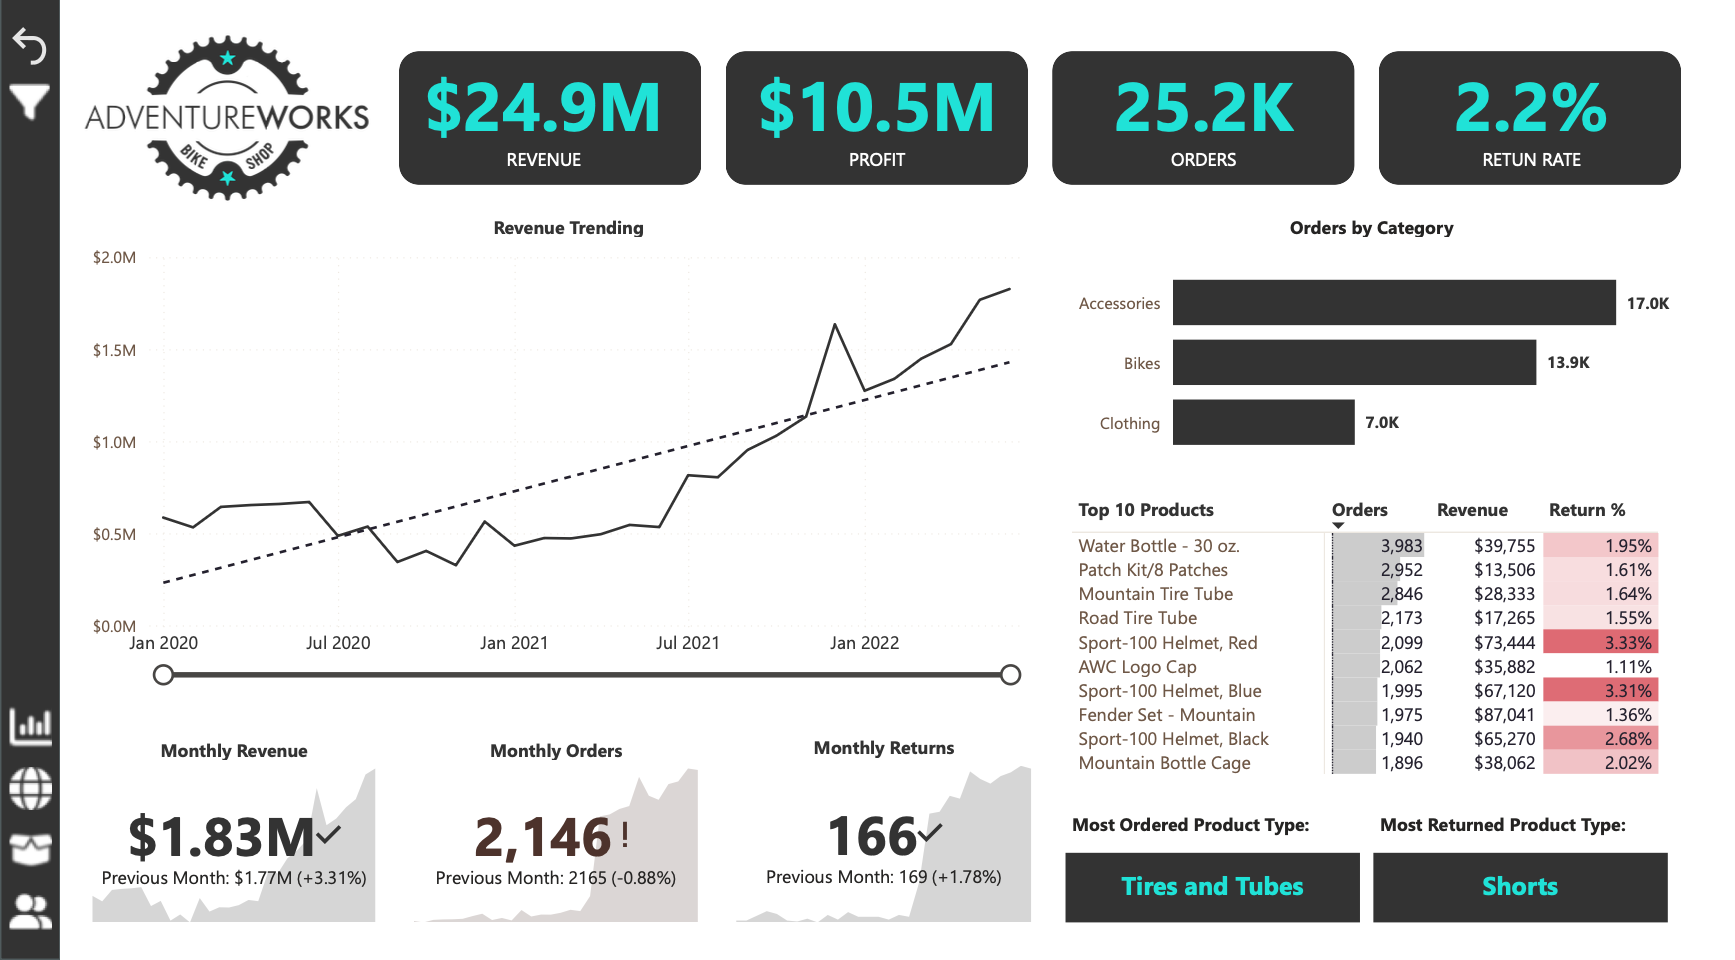

The dashboard page shown, as its layout file describes it:
{"tool":"powerbi","page":{"name":"Exec Dashboard","canvas":[1280,720],"ordinal":0},"visuals":[{"type":"image","title":"AW Logo","box":[35.3,17.6,270,146.5],"z":0},{"type":"shape","box":[297.8,41.1,225.6,100],"z":0,"group":"g2"},{"type":"shape","title":"Nav","box":[0,0,45,720],"z":1000},{"type":"shape","box":[541.9,41.1,225.6,100],"z":1000,"group":"g2"},{"type":"actionButton","box":[2.5,617.9,40,40],"z":1000,"group":"g4"},{"type":"group","id":"g1","title":"KPI's","box":[271.1,13.2,1008.9,150],"z":2000},{"type":"group","id":"g2","title":"KPI Background","box":[297.8,41.1,957.8,100],"z":2000,"group":"g1"},{"type":"shape","box":[785.9,41.1,225.6,100],"z":2000,"group":"g2"},{"type":"actionButton","box":[2.5,526.2,40,40],"z":2000,"group":"g4"},{"type":"card","fields":{"Values":["Measure Table.Total Revenue"]},"box":[271.1,13.2,271.1,150],"z":3000,"group":"g3"},{"type":"shape","box":[1030,41.1,225.6,100],"z":3000,"group":"g2"},{"type":"lineChart","title":"Revenue Trending","fields":{"Y":["Measure Table.Total Revenue"],"Category":["Calendar Lookup.Year","Calendar Lookup.Start of Quarter","Calendar Lookup.Start of Month"]},"box":[63.8,163.3,722.2,354.7],"z":3000},{"type":"actionButton","box":[2.5,663.7,40,40],"z":3000,"group":"g4"},{"type":"card","fields":{"Values":["Measure Table.Total Profit"]},"box":[520,13.2,271.1,150],"z":4000,"group":"g3"},{"type":"kpi","title":"Monthly Revenue","fields":{"Indicator":["Measure Table.Total Revenue"],"TrendLine":["Calendar Lookup.Start of Month"],"Goal":["Measure Table.Previous Month Revenue"]},"box":[63.8,553.8,222,142.9],"z":4000},{"type":"actionButton","box":[2.5,572,40,40],"z":4000,"group":"g4"},{"type":"card","fields":{"Values":["Measure Table.Total Orders"]},"box":[764.4,13.2,271.1,150],"z":5000,"group":"g3"},{"type":"kpi","title":"Monthly Orders","fields":{"TrendLine":["Calendar Lookup.Start of Month"],"Indicator":["Measure Table.Total Orders"],"Goal":["Measure Table.Previous Month Orders"]},"box":[303.7,553.8,223.3,142.9],"z":5000},{"type":"card","fields":{"Values":["Measure Table.Return Rate"]},"box":[1008.9,13.2,271.1,150],"z":6000,"group":"g3"},{"type":"kpi","title":"Monthly Returns","fields":{"TrendLine":["Calendar Lookup.Start of Month"],"Indicator":["Measure Table.Total Returns"],"Goal":["Measure Table.Previous Month Returns"]},"box":[544.8,552.5,230.9,144.2],"z":6000},{"type":"group","id":"g3","title":"KPI Values","box":[271.1,13.2,1008.9,150],"z":6001,"group":"g1"},{"type":"clusteredBarChart","title":"Orders by Category","fields":{"Category":["Product Categories Lookup.CategoryName"],"Y":["Measure Table.Total Orders"]},"box":[796.2,163.3,458.1,196.5],"z":7000},{"type":"pivotTable","fields":{"Rows":["Product Lookup.ProductName"],"Values":["Measure Table.Total Orders","Measure Table.Total Revenue","Measure Table.Return Rate"]},"box":[796.2,368.7,459.3,223.3],"z":8000},{"type":"card","fields":{"Values":["Min(Product Subcategories Lookup.SubcategoryName)"]},"box":[796.2,639.5,220,52.3],"z":9000},{"type":"textbox","box":[796.4,603.9,196.1,30.1],"z":10000},{"type":"card","fields":{"Values":["Min(Product Subcategories Lookup.SubcategoryName)"]},"box":[1025.9,639.5,220,52.3],"z":11000},{"type":"textbox","box":[1025.9,604.4,196.5,29.3],"z":12000},{"type":"actionButton","box":[2.9,17.1,37.6,39.4],"z":13000},{"type":"group","id":"g4","title":"Nav Buttons","box":[2.5,526.2,40,177.5],"z":14000},{"type":"actionButton","box":[3.4,59,37.6,39.3],"z":15000}]}

Visuals, with their boxes on the page's 1280x720 design canvas (x1, y1, x2, y2). These are canvas units, not pixel positions in the 1735x960 screenshot, which may show the page scaled, cropped or inside an application window:
"AW Logo" image: rect(35, 18, 305, 164)
shape: rect(298, 41, 523, 141)
"Nav" shape: rect(0, 0, 45, 720)
shape: rect(542, 41, 768, 141)
actionButton: rect(2, 618, 42, 658)
"KPI's" group: rect(271, 13, 1280, 163)
"KPI Background" group: rect(298, 41, 1256, 141)
shape: rect(786, 41, 1012, 141)
actionButton: rect(2, 526, 42, 566)
card - Measure Table.Total Revenue: rect(271, 13, 542, 163)
shape: rect(1030, 41, 1256, 141)
"Revenue Trending" lineChart: rect(64, 163, 786, 518)
actionButton: rect(2, 664, 42, 704)
card - Measure Table.Total Profit: rect(520, 13, 791, 163)
"Monthly Revenue" kpi: rect(64, 554, 286, 697)
actionButton: rect(2, 572, 42, 612)
card - Measure Table.Total Orders: rect(764, 13, 1036, 163)
"Monthly Orders" kpi: rect(304, 554, 527, 697)
card - Measure Table.Return Rate: rect(1009, 13, 1280, 163)
"Monthly Returns" kpi: rect(545, 552, 776, 697)
"KPI Values" group: rect(271, 13, 1280, 163)
"Orders by Category" clusteredBarChart: rect(796, 163, 1254, 360)
pivotTable - Product Lookup.ProductName x Measure Table.Total Orders: rect(796, 369, 1256, 592)
card - Min(Product Subcategories Lookup.SubcategoryName): rect(796, 640, 1016, 692)
textbox: rect(796, 604, 992, 634)
card - Min(Product Subcategories Lookup.SubcategoryName): rect(1026, 640, 1246, 692)
textbox: rect(1026, 604, 1222, 634)
actionButton: rect(3, 17, 40, 56)
"Nav Buttons" group: rect(2, 526, 42, 704)
actionButton: rect(3, 59, 41, 98)
